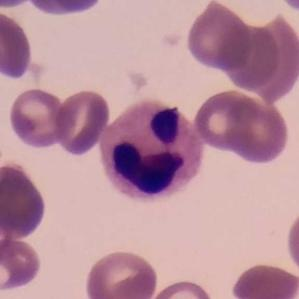Neutrophil: (95, 93, 208, 207)
RBC: (190, 87, 293, 165), (229, 17, 297, 99), (183, 0, 254, 73), (6, 85, 73, 150), (52, 87, 112, 157), (82, 246, 160, 299), (0, 160, 50, 241), (228, 260, 299, 299), (0, 8, 36, 82), (0, 234, 43, 295), (17, 0, 111, 19), (145, 277, 218, 299), (283, 202, 299, 281), (0, 0, 39, 11)
